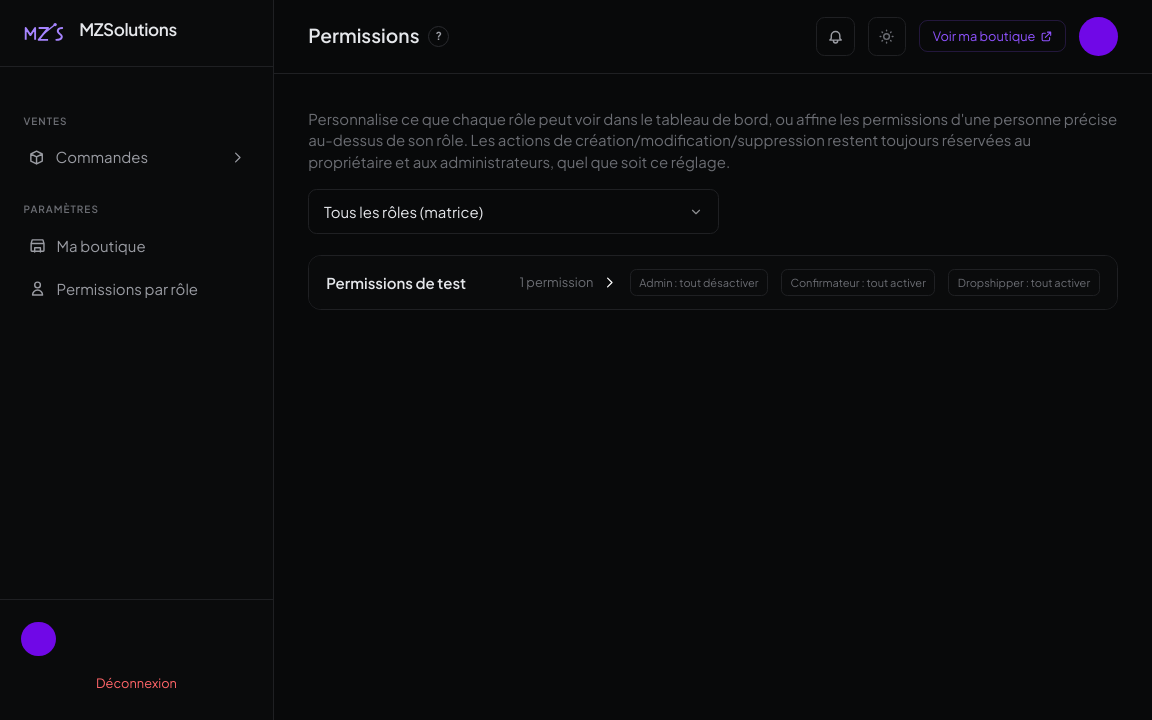
it: PermissionsPage › switches to a member and shows their individual permissions with a custom badge
This screenshot has width=1152, height=720.
Click the button "Tous les rôles (matrice)".
click(404, 211)  # box [308,189,719,234]
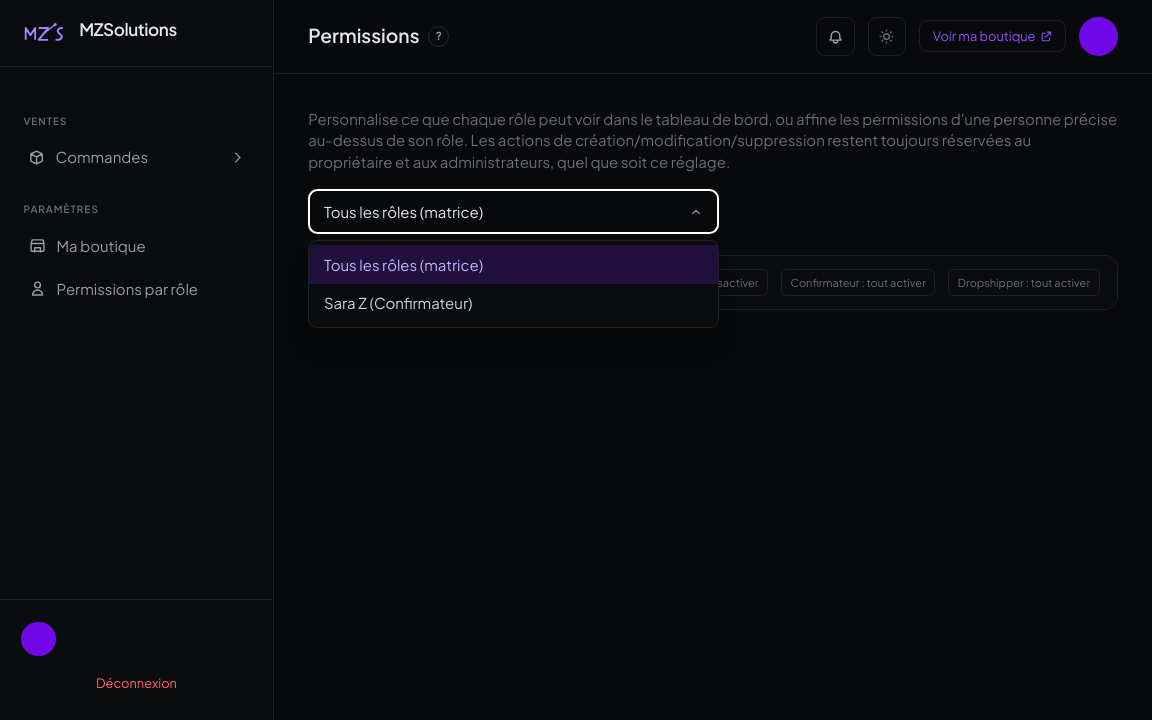
Click the button "Sara Z (Confirmateur)".
click(398, 303)  # box [309,284,718,322]
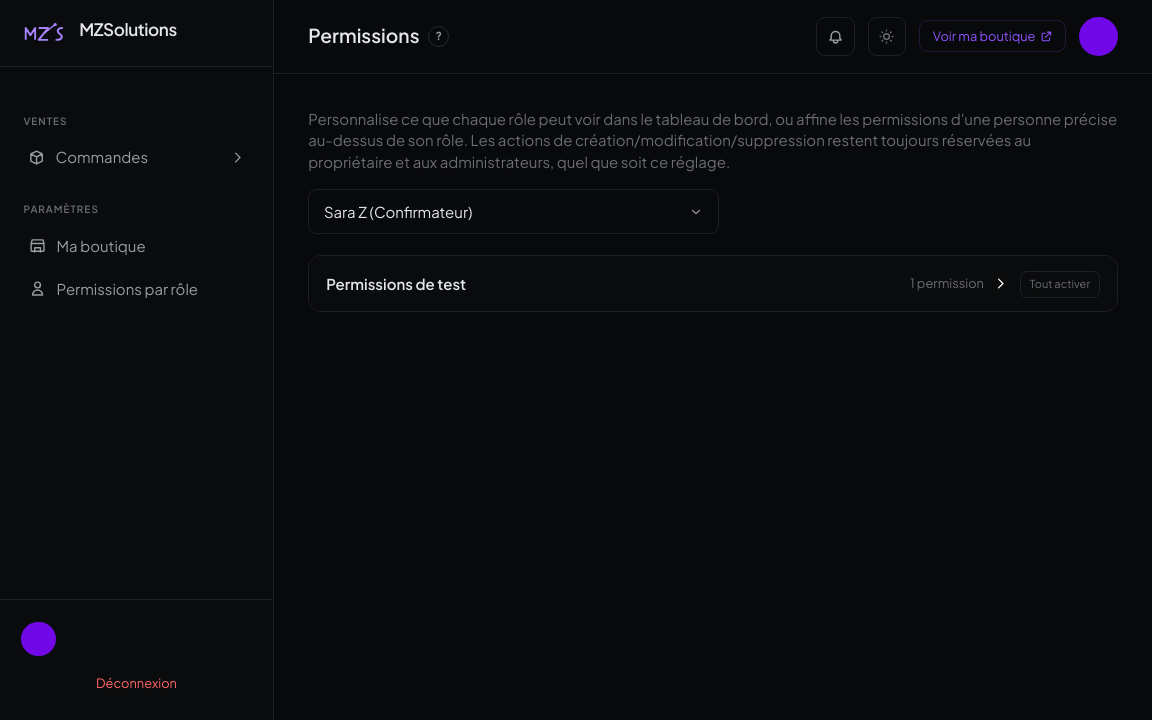
Expected: the text "Permissions de test" is shown, [326,273,466,294]
Click the button "Permissions de test 1 permission".
click(396, 283)  # box [326,273,1008,294]
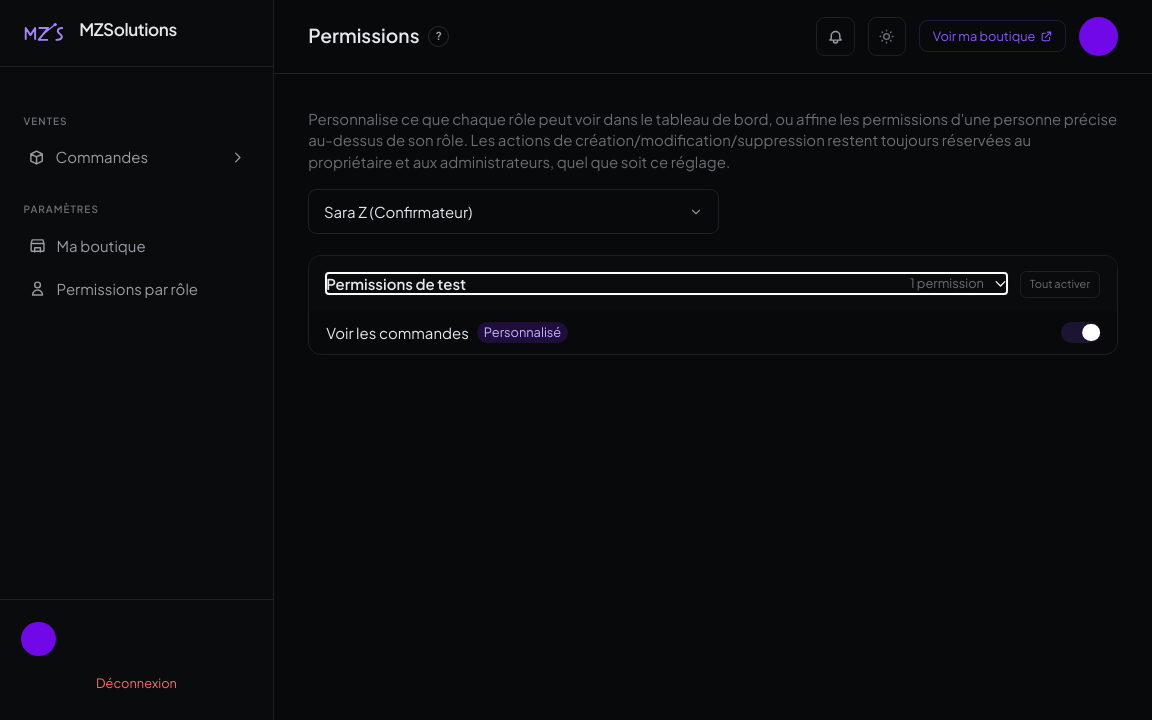
Expected: the text "Voir les commandes" is shown, [326,323,469,342]
Expected: the text "Personnalisé" is shown, [477,322,568,343]
Expected: the button named "Désactivé — cliquer pour activer" is shown, [1061,322,1100,343]
